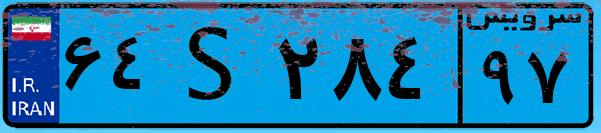2: (270, 28, 330, 110)
4: (385, 28, 445, 110), (110, 28, 158, 98)
6: (57, 26, 110, 100)
7: (525, 38, 570, 115)
8: (330, 28, 385, 110)
9: (475, 38, 525, 113)
S: (158, 12, 270, 120)
